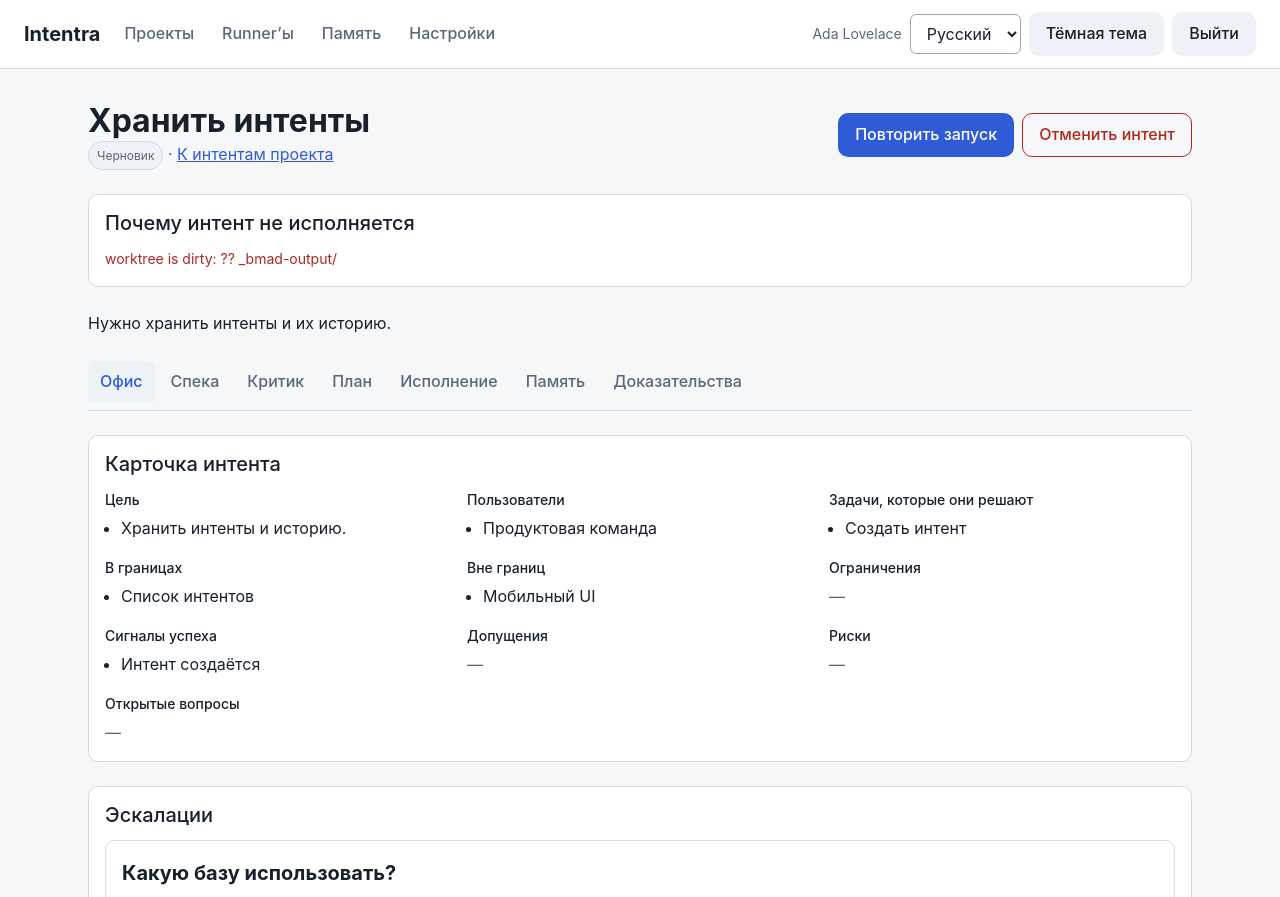
it: IntentShellPage › shows the failed stage reason, retries intake and hides the reason once the new stage runs
The width and height of the screenshot is (1280, 897).
Check: the message shows "worktree is dirty: ?? _bmad-output/", box left=105, top=250, right=337, bottom=267
Click the button "Повторить запуск": (926, 135) left=838, top=113, right=1014, bottom=157
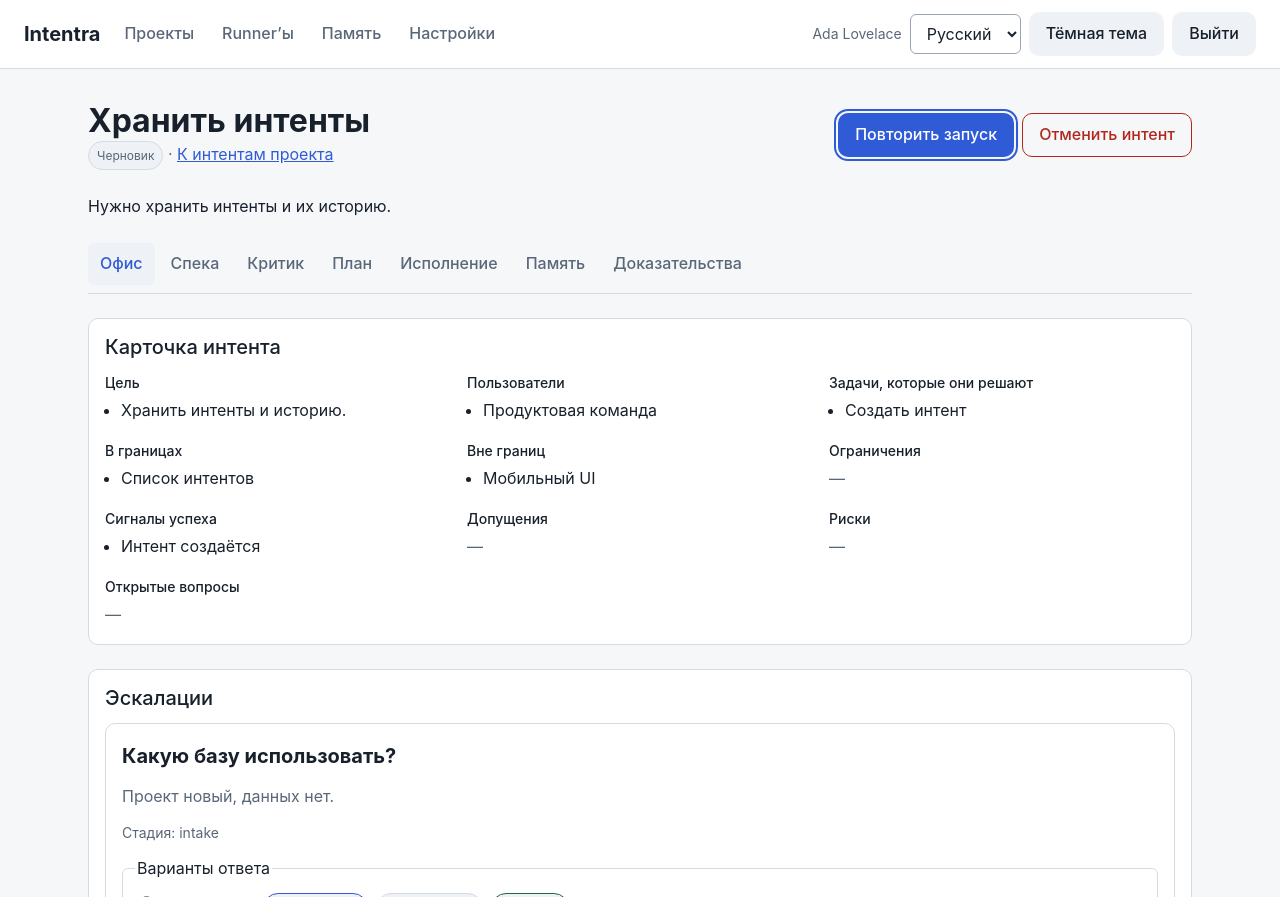
Check: the message "Почему интент не исполняется worktree is dirty: ?? _bmad-output/" is gone
